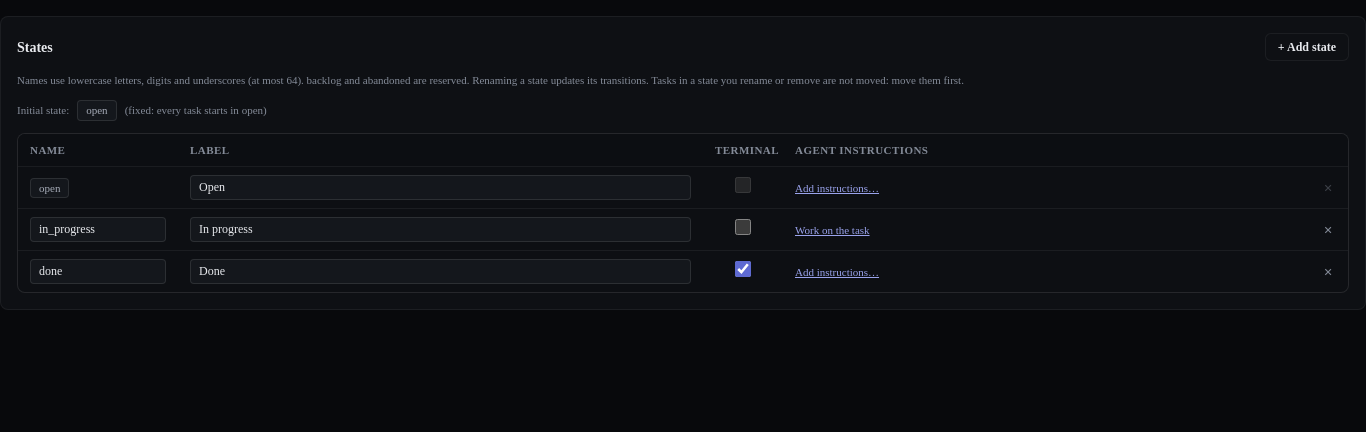
Test: StatesTable: name validation (mirrors the backend) › leaving the field with an invalid name restores the last valid name and drops the error
The width and height of the screenshot is (1366, 432).
Replace the text in the field named "State name for row 2" with "backlog": (98, 230) [30,217,166,242]
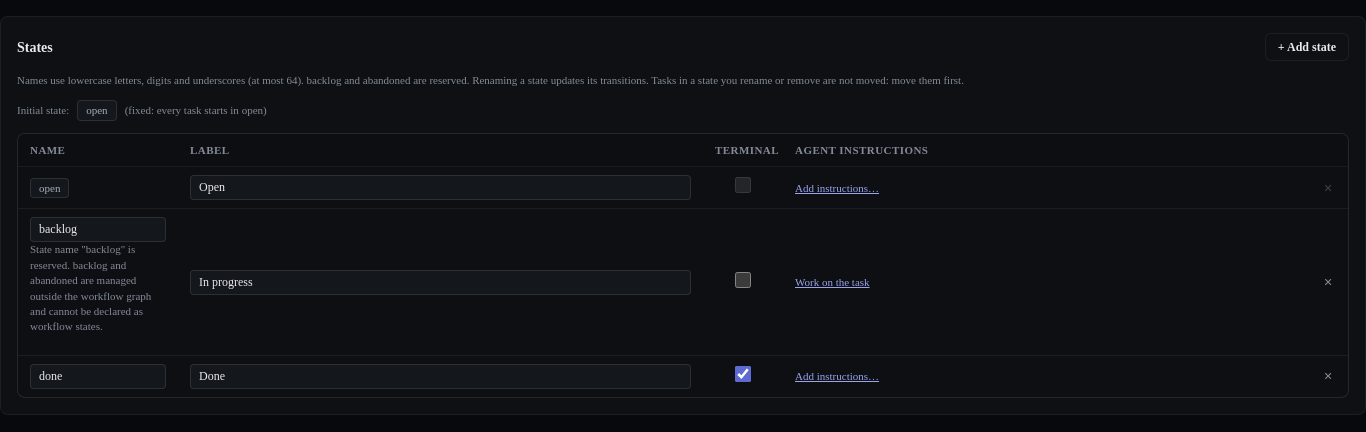
Result: the message is shown at [30,242,166,335]
Leave the field named "State name for row 2", box [30,217,166,242]
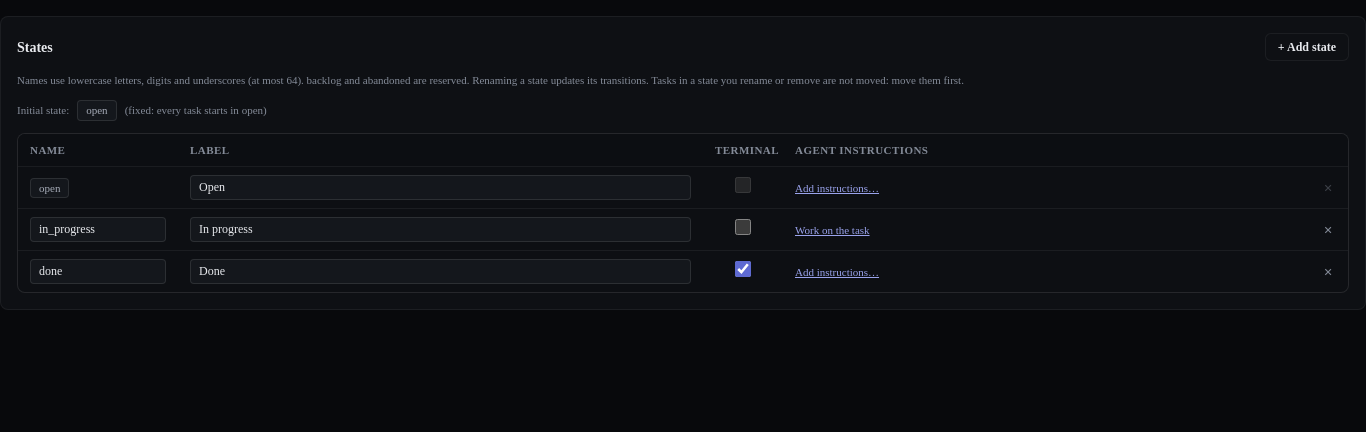
Result: the message "State name \"backlog\" is reserved. backlog and abandoned are managed outside the" is gone
Result: the field named "State name for row 2" holds "in_progress" at [30,217,166,242]
